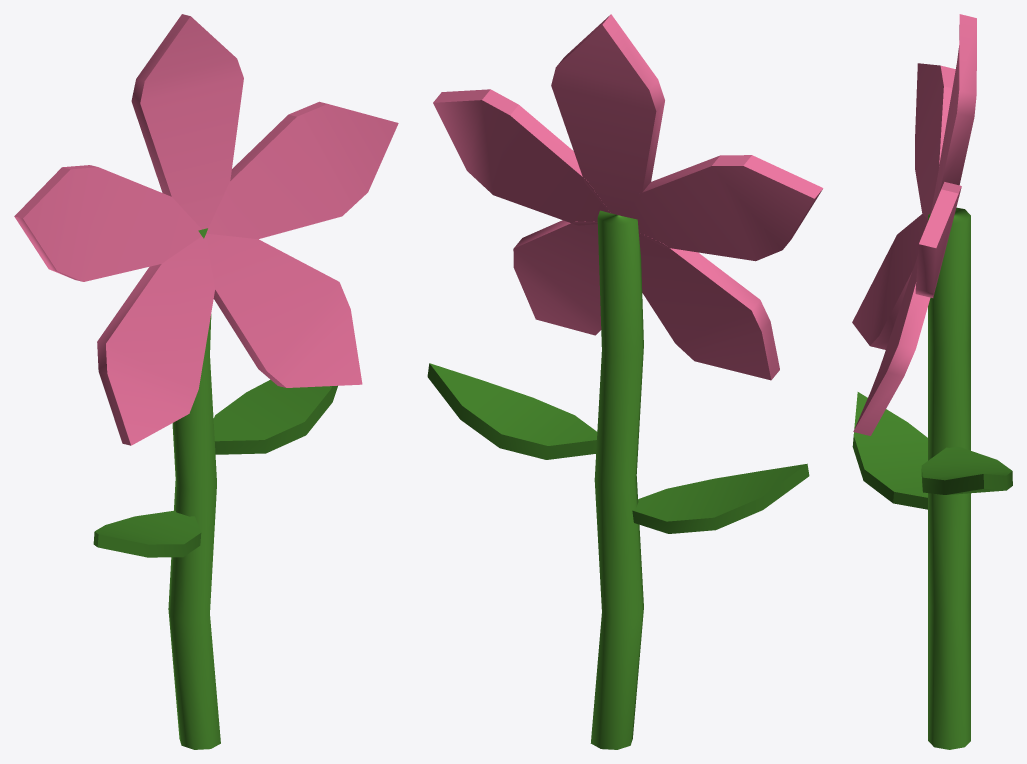
The model's file is Flower_Pink_6.fbx.
The picture shows the model from 3 angles, left to right: view 1: azimuth 30°, elevation 25°; view 2: azimuth 150°, elevation 25°; view 3: azimuth 270°, elevation 25°; orthographic projection.
Parts seen in each view (by area): view 1: Cube.086, Cylinder.614, Plane.193, Plane.192; view 2: Cube.086, Cylinder.614, Plane.193, Plane.192; view 3: Cylinder.614, Cube.086, Plane.192, Plane.193.
Boxes of the visible parts, <box> form: Cube.086: <box>14,14,398,445</box>; Cylinder.614: <box>168,228,220,749</box>; Plane.193: <box>213,379,337,454</box>; Plane.192: <box>93,510,201,557</box>; Cube.086: <box>433,14,823,380</box>; Cylinder.614: <box>590,210,643,749</box>; Plane.193: <box>427,363,597,459</box>; Plane.192: <box>632,463,809,533</box>; Cylinder.614: <box>928,207,970,749</box>; Cube.086: <box>852,14,976,435</box>; Plane.192: <box>852,392,927,509</box>; Plane.193: <box>921,446,1012,494</box>.
Size of the model in its own units: 71.56 by 131 by 26.41.
